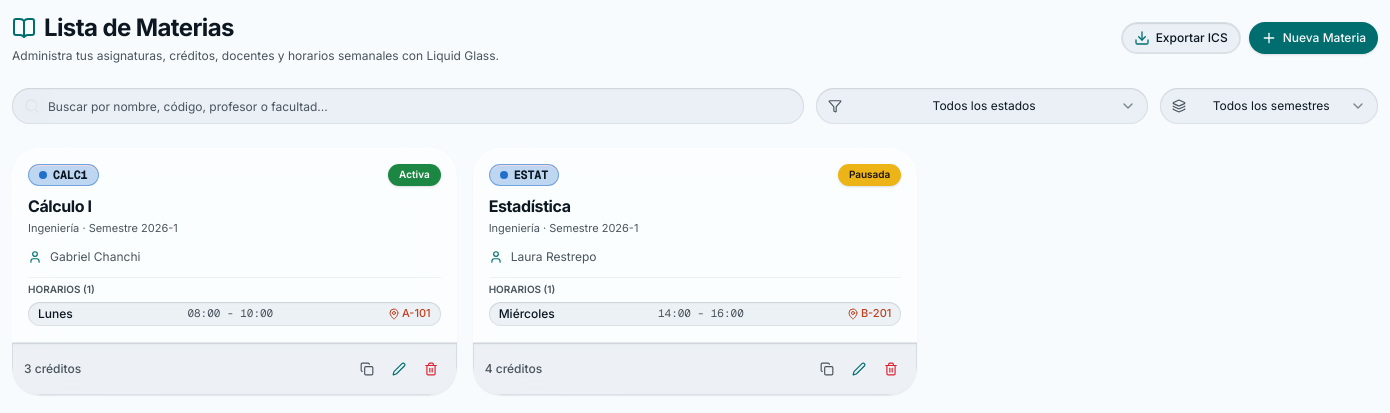
Test: CoursesView › filters by search text and shows a filtered-out empty state
Type "zzz-nada" into the field with placeholder "Buscar por nombre, código, profesor o facultad..." at (408, 106), box [12,88,804,124]
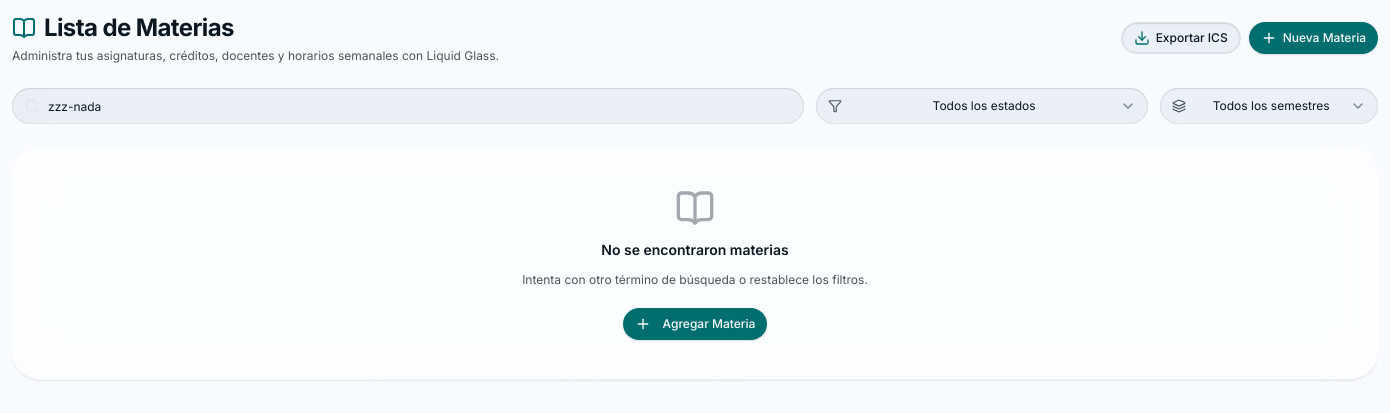
expect the text "No se encontraron materias" is shown: met, box [601,241,789,258]
expect the text "Intenta con otro término de búsqueda o restablece los filtros." is shown: met, box [503,272,887,288]
Note: By name.
Replace the text in the field with placeholder "Buscar por nombre, código, profesor o facultad..." with "Cálculo" at (408, 106), box [12,88,804,124]
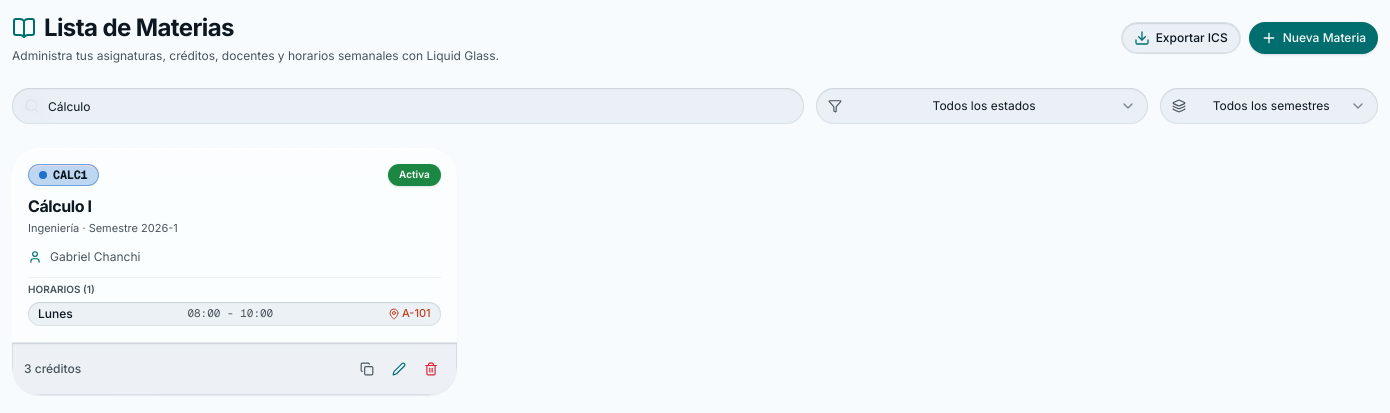
expect the heading "Estadística" is not shown: met
expect the heading "Cálculo I" is shown: met, box [28,196,92,216]
Note: By professor and by code too.
Replace the text in the field with placeholder "Buscar por nombre, código, profesor o facultad..." with "Gabriel" at (408, 106), box [12,88,804,124]
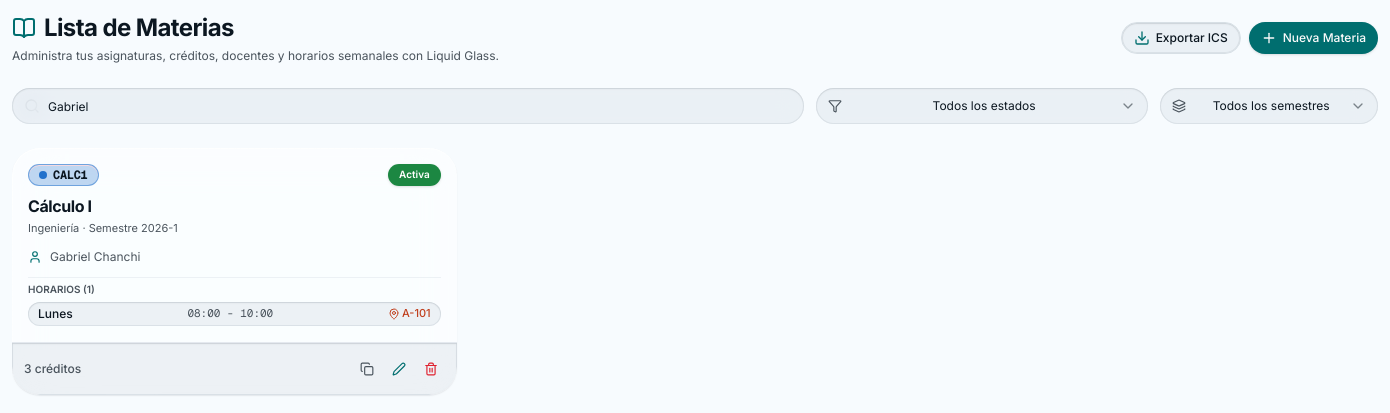
expect the heading "Estadística" is not shown: met
expect the heading "Cálculo I" is shown: met, box [28,196,92,216]
Replace the text in the field with placeholder "Buscar por nombre, código, profesor o facultad..." with "ESTAT" at (408, 106), box [12,88,804,124]
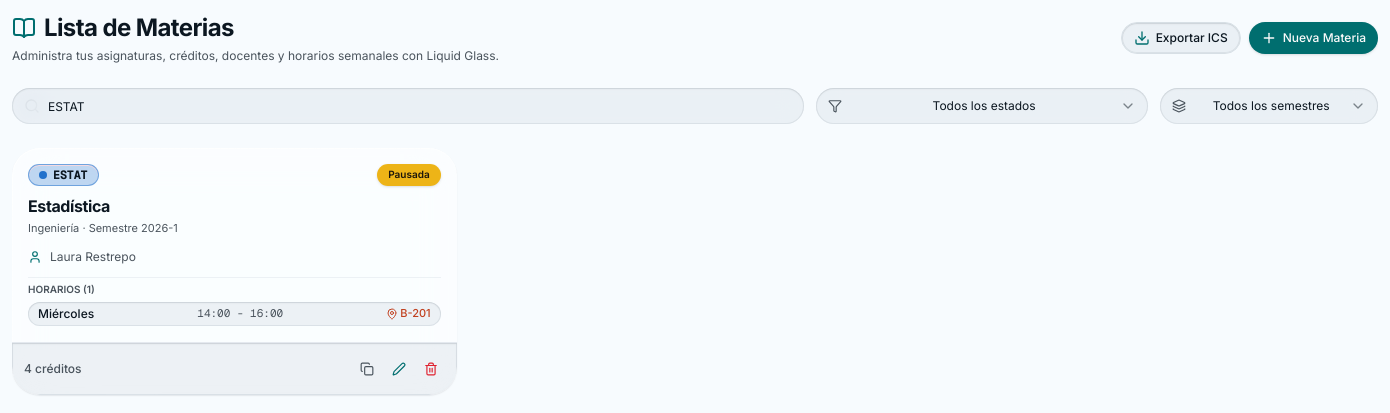
expect the heading "Estadística" is shown: met, box [28,196,110,216]
expect the heading "Cálculo I" is gone: met
